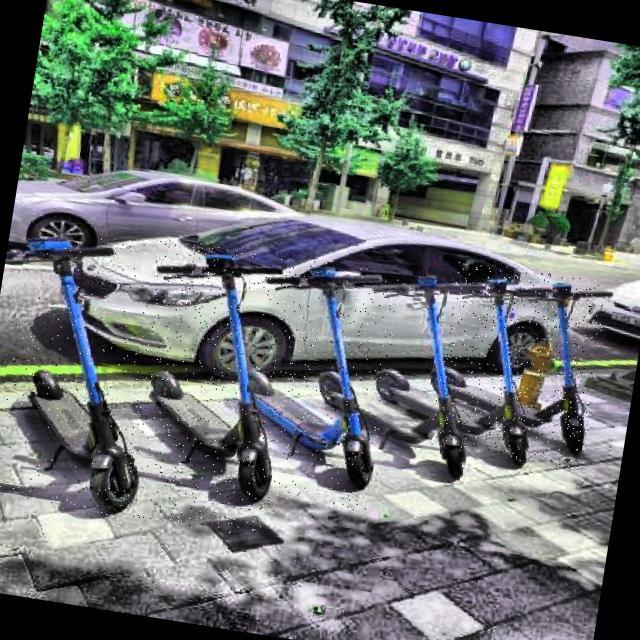bike: (11, 239, 140, 514), (149, 248, 275, 501), (374, 277, 468, 481)
car: (70, 216, 564, 382), (4, 168, 305, 252)
